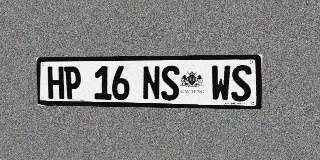1: (94, 66, 112, 100)
6: (112, 66, 130, 100)
H: (47, 66, 64, 99)
N: (142, 66, 160, 100)
P: (64, 66, 81, 99)
S: (231, 65, 252, 102), (161, 65, 180, 101)
W: (211, 65, 231, 101)
